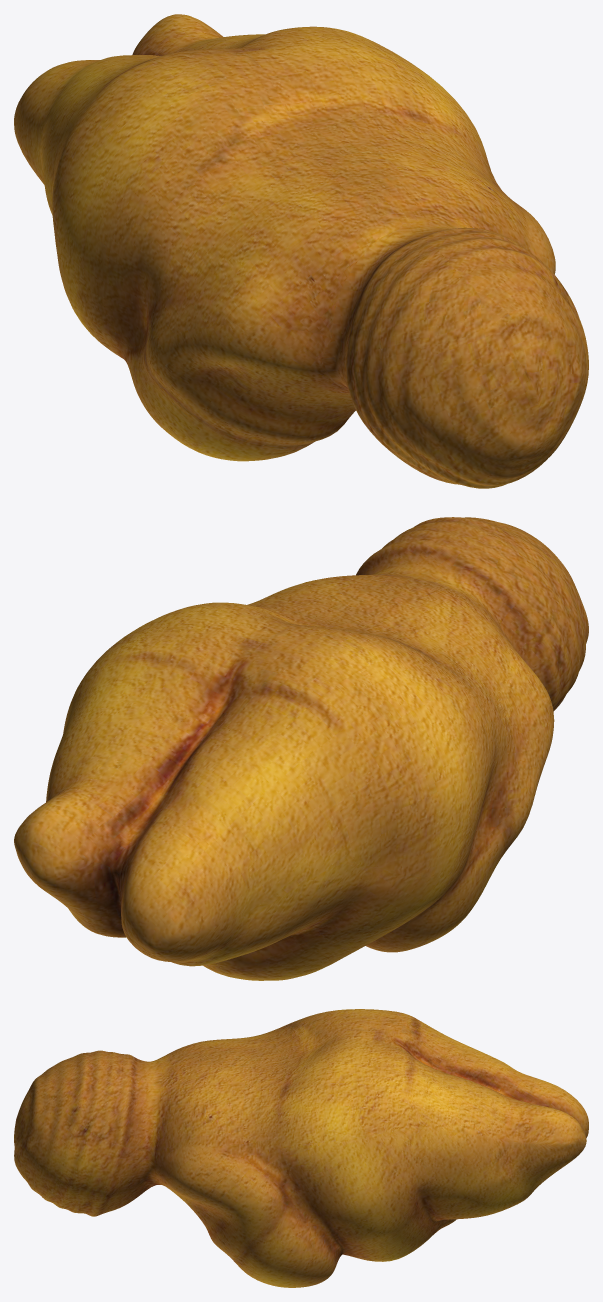
The model's file is booba.glb.
3 views of the same model, one above another, from view 1: azimuth 30°, elevation 25°; view 2: azimuth 150°, elevation 25°; view 3: azimuth 270°, elevation 25° (orthographic). The views are drawn at different scales.
Visible parts, largest first — view 1: 12327_Statue_V1_L3; view 2: 12327_Statue_V1_L3; view 3: 12327_Statue_V1_L3.
Part boxes in pixels (x1,y1,x2,y2): 12327_Statue_V1_L3: (14,14,588,488); 12327_Statue_V1_L3: (14,517,588,980); 12327_Statue_V1_L3: (14,1009,588,1287).
Bounding box in the file's own units: 18.23 × 15.19 × 35.74.
Materials: 1 (1 with a texture image).
